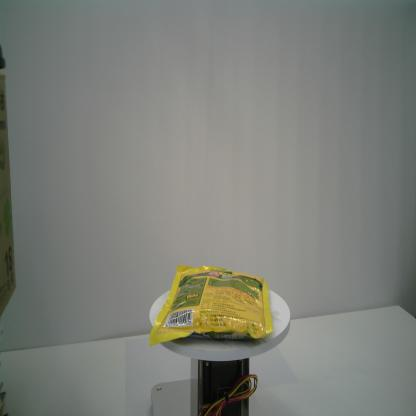Seasoner: (149, 263, 274, 344)
